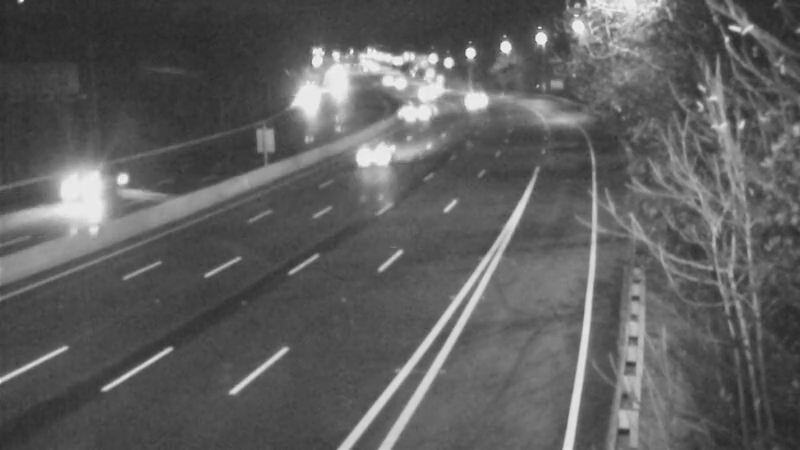vehicle: (338, 116, 418, 196), (42, 146, 122, 226), (398, 67, 448, 117), (446, 77, 496, 127), (391, 87, 441, 137)
